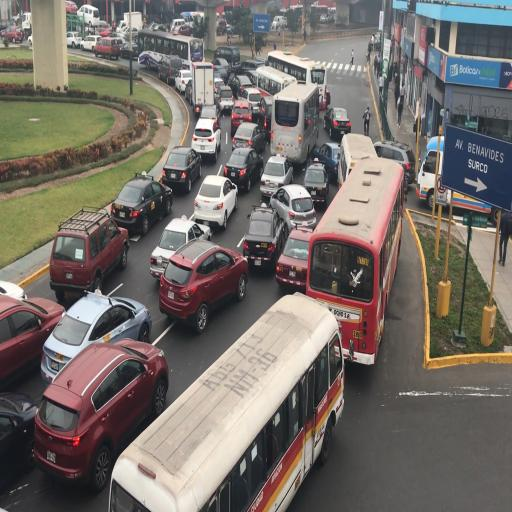auto: (35, 336, 166, 493), (42, 287, 152, 378), (158, 238, 248, 330), (49, 206, 129, 299), (1, 290, 66, 392), (32, 391, 90, 488), (110, 173, 171, 237), (1, 393, 40, 492), (149, 218, 210, 281), (242, 201, 285, 273), (276, 226, 316, 290), (192, 174, 237, 230), (270, 182, 314, 233), (159, 144, 202, 194), (374, 138, 415, 190), (223, 144, 264, 194), (259, 154, 293, 200), (190, 113, 220, 161), (301, 160, 330, 208), (312, 142, 342, 184), (243, 88, 272, 130), (231, 121, 265, 155), (230, 97, 256, 134), (323, 106, 349, 140), (156, 52, 182, 83), (230, 73, 254, 101), (94, 36, 122, 60), (215, 84, 234, 117), (238, 58, 264, 81), (198, 104, 219, 132), (0, 278, 26, 300), (77, 4, 100, 27), (139, 49, 163, 71), (212, 57, 231, 84), (175, 69, 194, 95), (120, 38, 140, 60), (0, 26, 24, 44), (80, 34, 102, 52), (118, 26, 140, 42), (213, 77, 227, 101), (91, 20, 111, 36), (66, 31, 83, 49), (172, 24, 191, 36), (216, 20, 228, 35), (149, 23, 168, 32), (115, 20, 128, 33), (254, 56, 268, 67), (271, 16, 280, 30), (226, 22, 233, 34)
bus: (110, 296, 332, 506), (306, 151, 399, 361), (416, 134, 499, 218), (269, 80, 318, 168), (267, 50, 325, 110), (339, 131, 378, 194), (252, 64, 294, 105), (121, 11, 143, 33), (310, 4, 332, 26), (187, 10, 206, 31), (20, 11, 32, 37)
moto: (362, 107, 370, 138)
